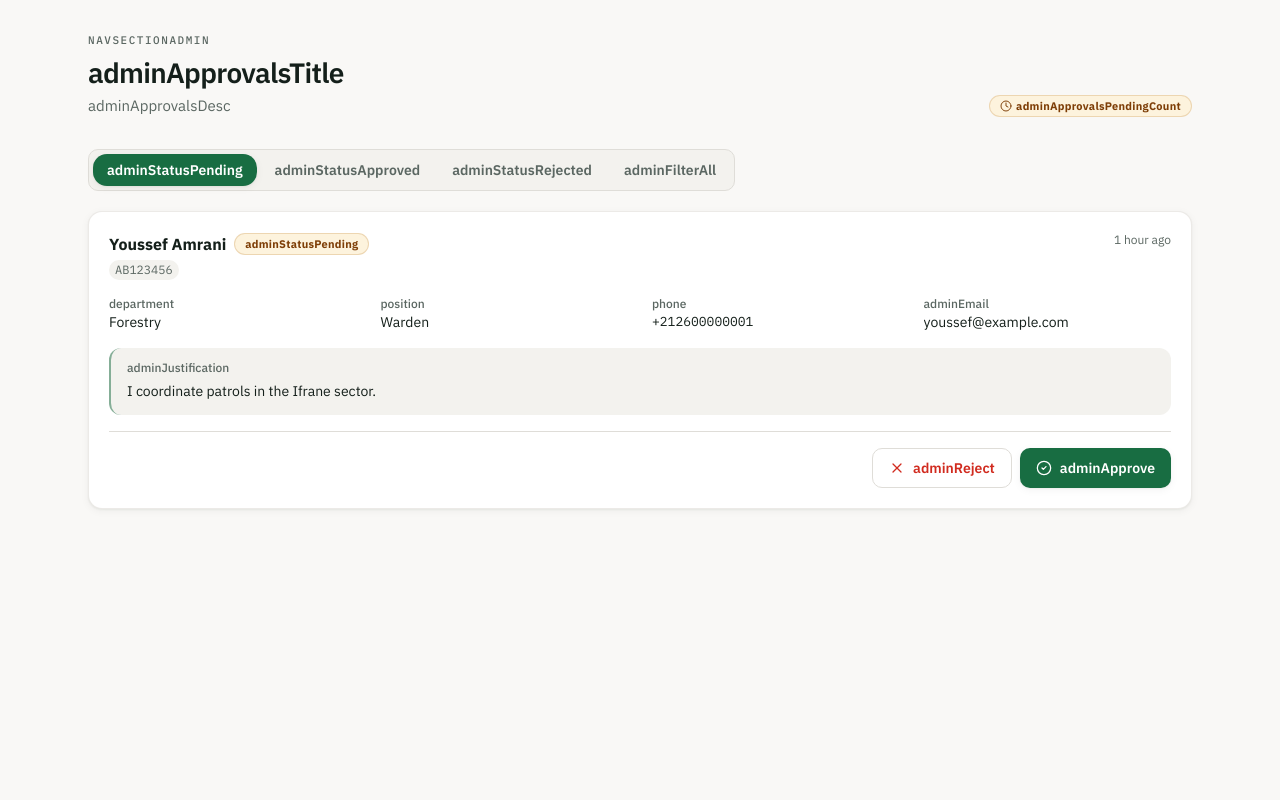
Test: AdminApprovalsPage › opens a confirmation dialog when Approve is clicked
Expected: the heading "Youssef Amrani" is shown, x1=109 y1=232 x2=226 y2=256
Click the button "adminApprove" at [1095, 468], box x1=1020 y1=448 x2=1171 y2=488
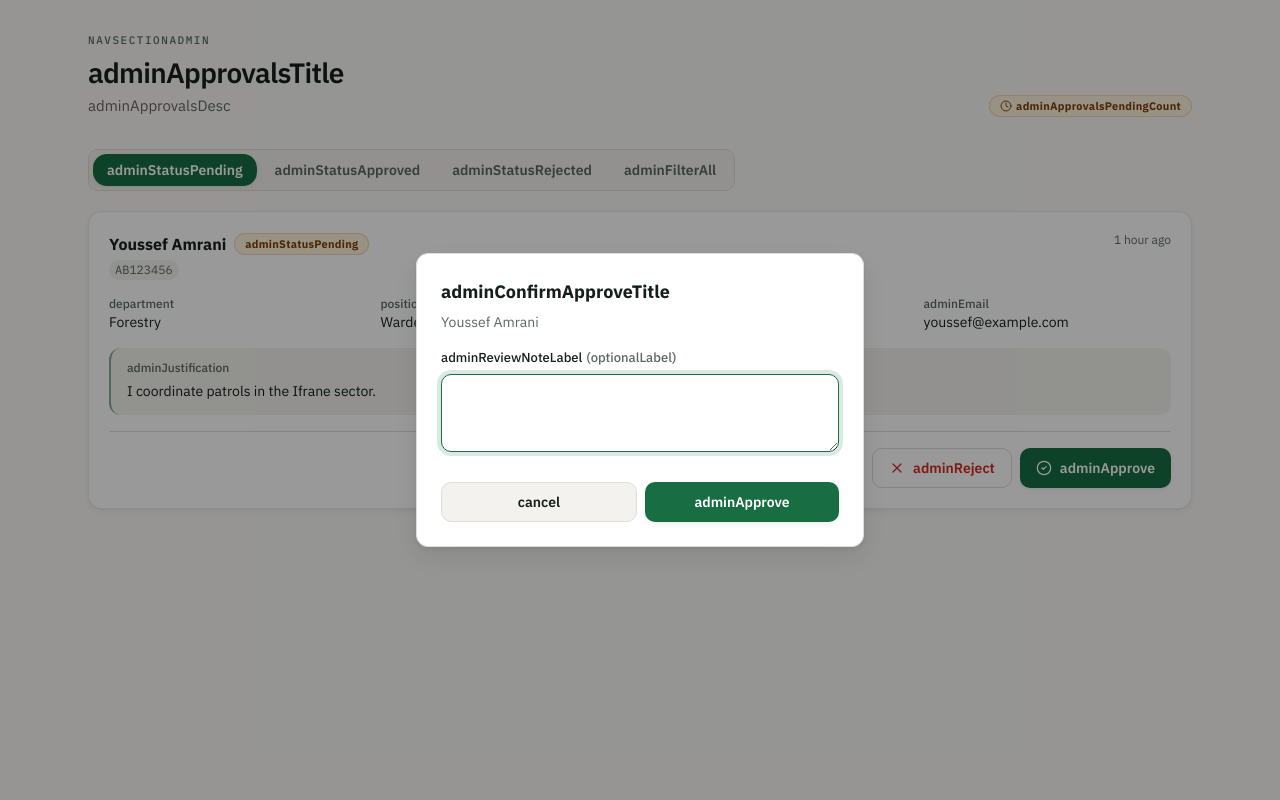
Expected: the dialog is shown, x1=416 y1=253 x2=864 y2=547
